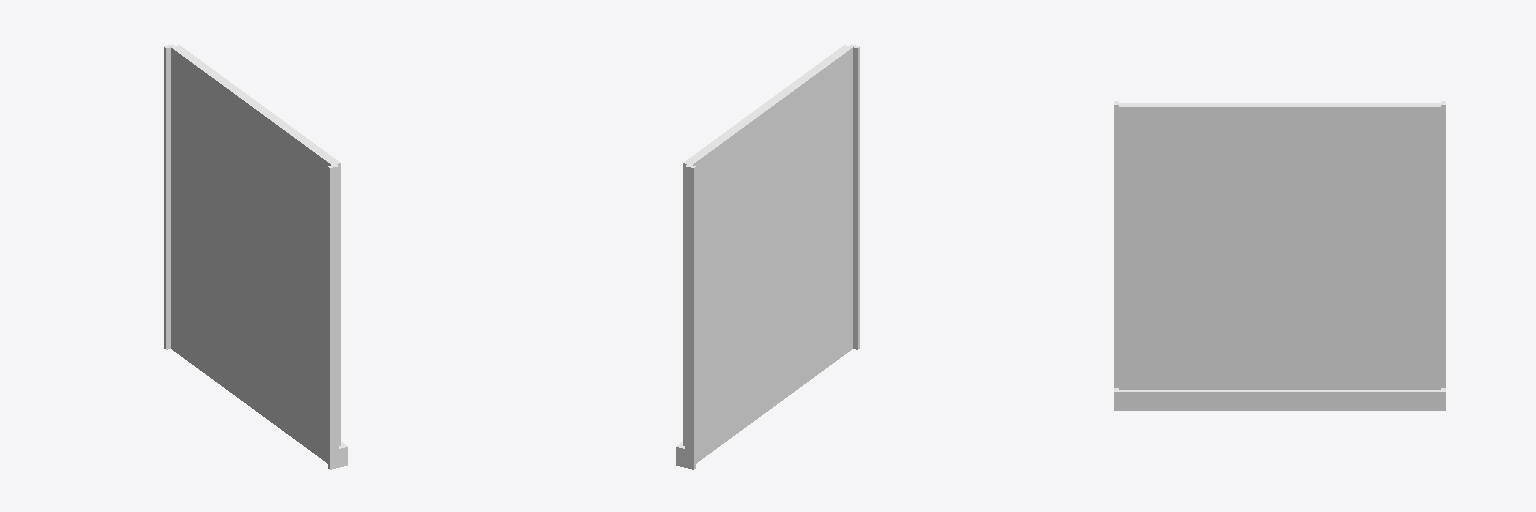
The model's file is modern_glass_wall_b.obj.
3 renders of one model, left to right at view 1: azimuth 30°, elevation 25°; view 2: azimuth 150°, elevation 25°; view 3: azimuth 270°, elevation 25°, orthographic.
Size of the model in its own units: 4 by 64 by 64.